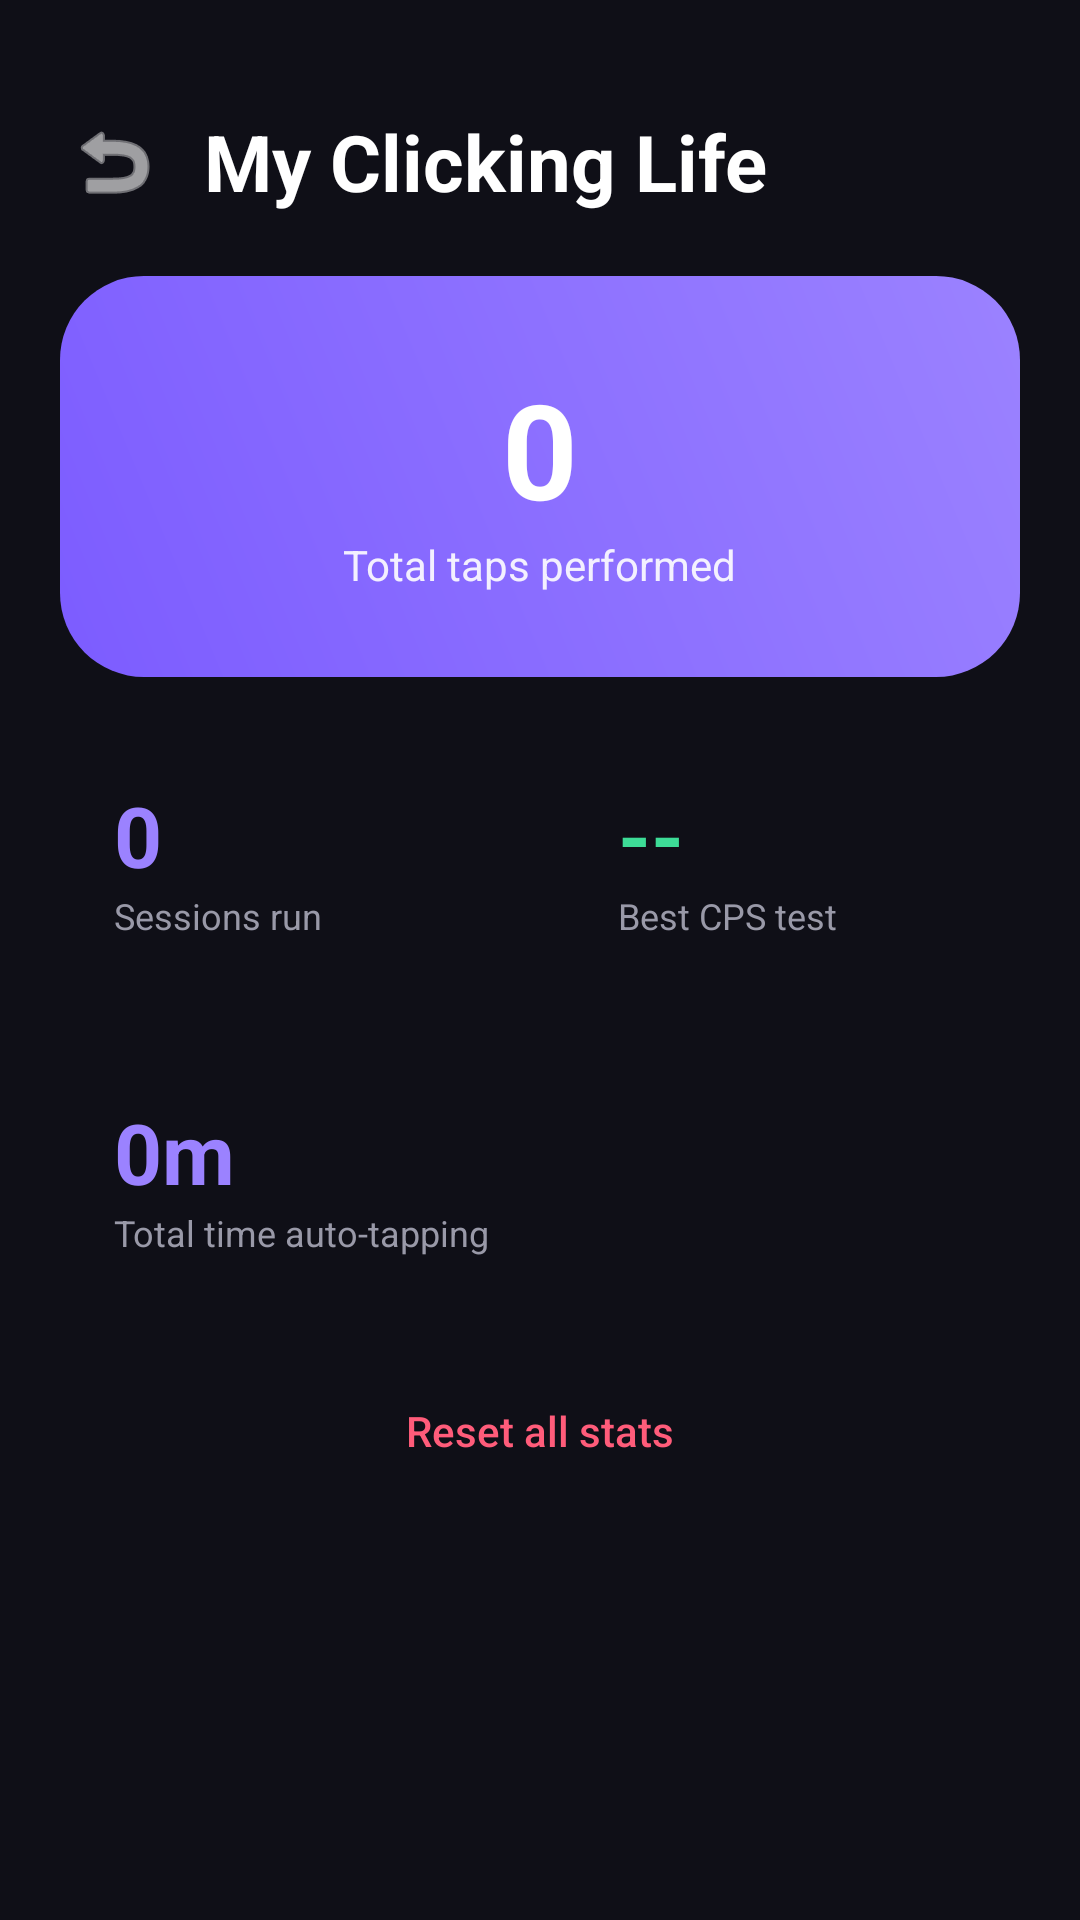

Icon click points for this 1080 x 1920 phone screenshot, format point (x, y):
revert: point (115, 162)
